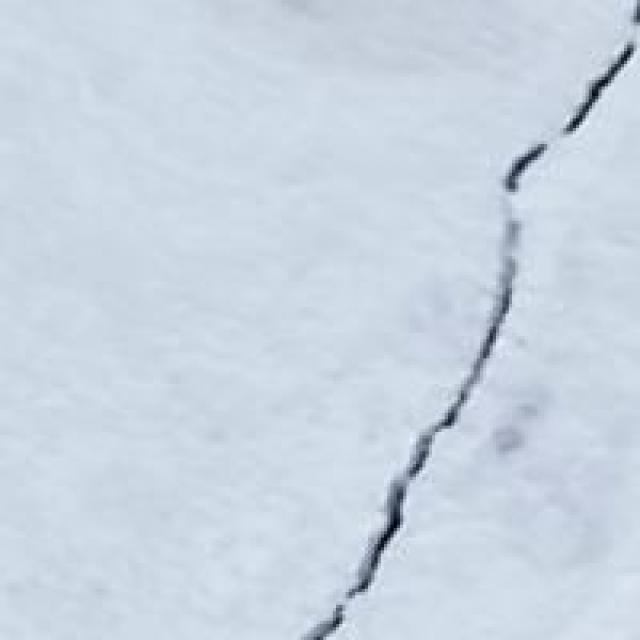crack: (314, 26, 636, 636)
